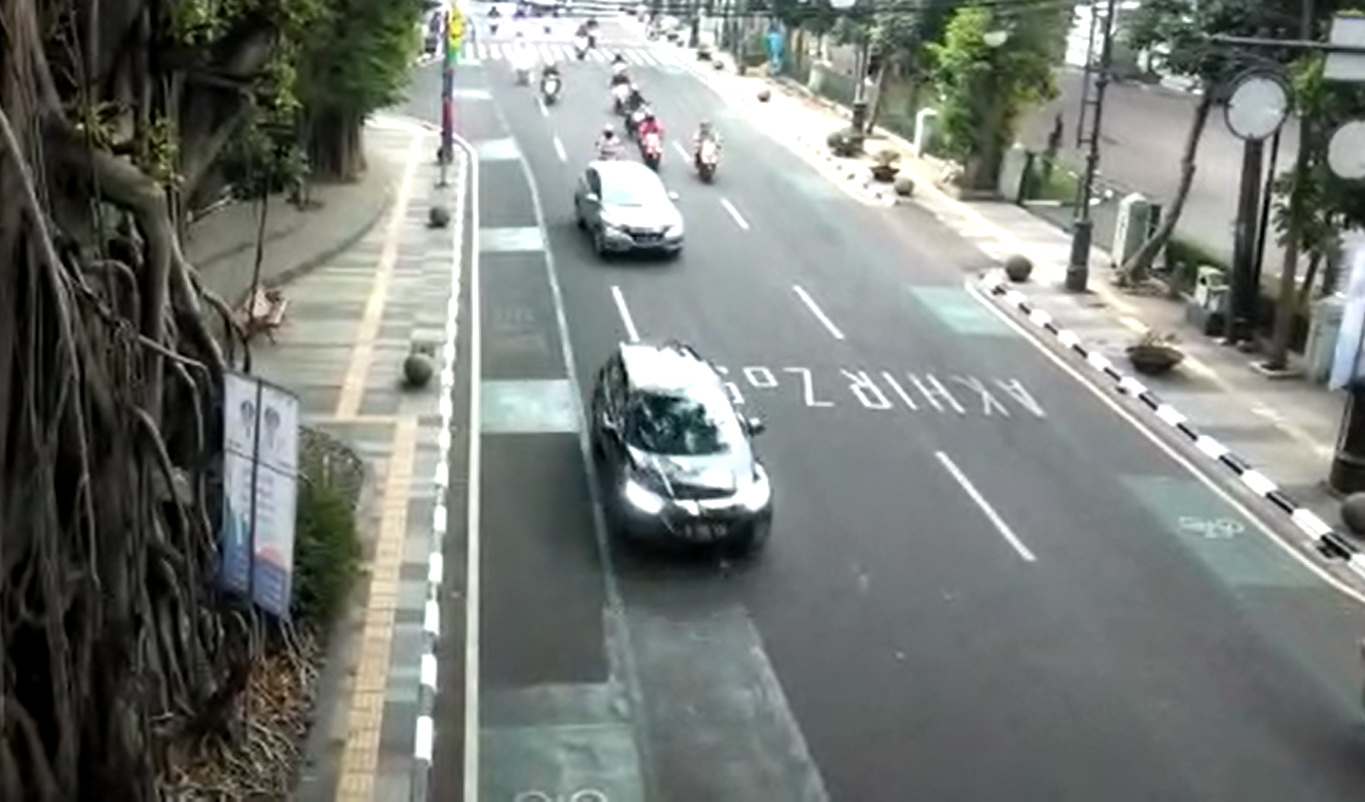mobil: (571, 322, 791, 579), (567, 150, 693, 275)
motor: (631, 105, 676, 175), (688, 114, 732, 185)
